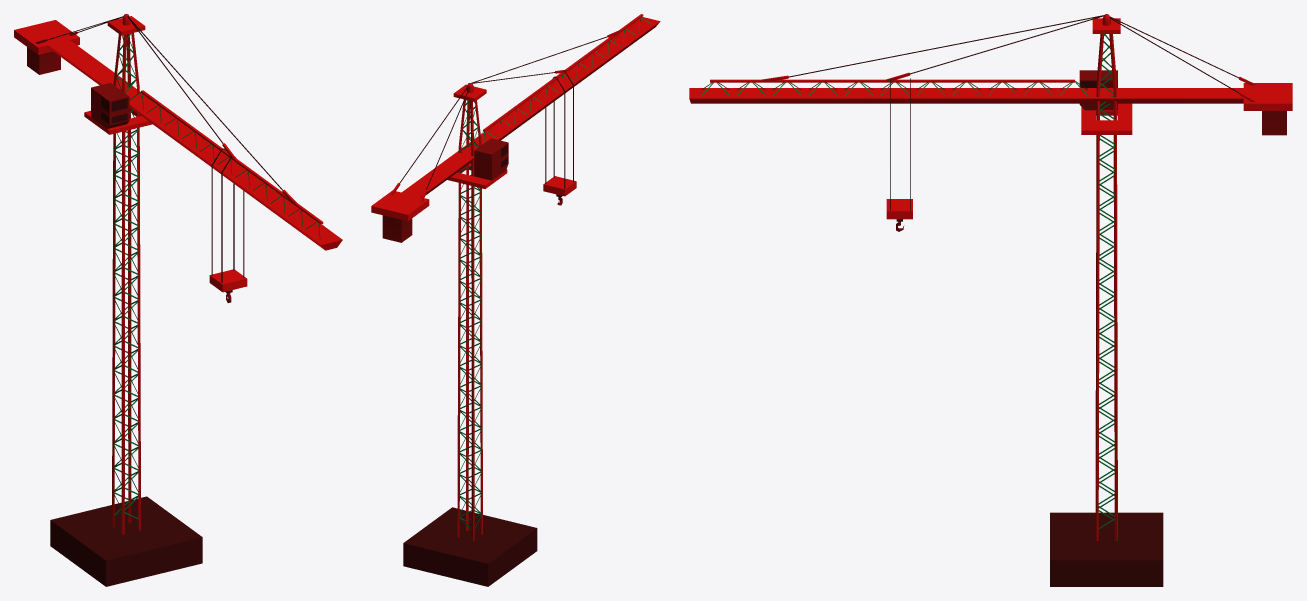
Rendered from buildings-industrial-towercrane_v1.fbx.
3 renders of one model, left to right at view 1: azimuth 30°, elevation 25°; view 2: azimuth 150°, elevation 25°; view 3: azimuth 270°, elevation 25°, orthographic. The views are drawn at different scales.
Visible parts, largest first — view 1: TowerCrane_base, TowerCrane_DblSided; view 2: TowerCrane_base, TowerCrane_DblSided; view 3: TowerCrane_base, TowerCrane_DblSided.
Boxes of the visible parts, x1,y1,x2,y2 form: TowerCrane_base: (14, 14, 342, 586); TowerCrane_DblSided: (114, 33, 331, 519); TowerCrane_base: (371, 14, 660, 586); TowerCrane_DblSided: (459, 17, 650, 529); TowerCrane_base: (689, 14, 1292, 586); TowerCrane_DblSided: (701, 34, 1114, 528).
Bounding box in the file's own units: 11.55 × 61.72 × 61.57.
